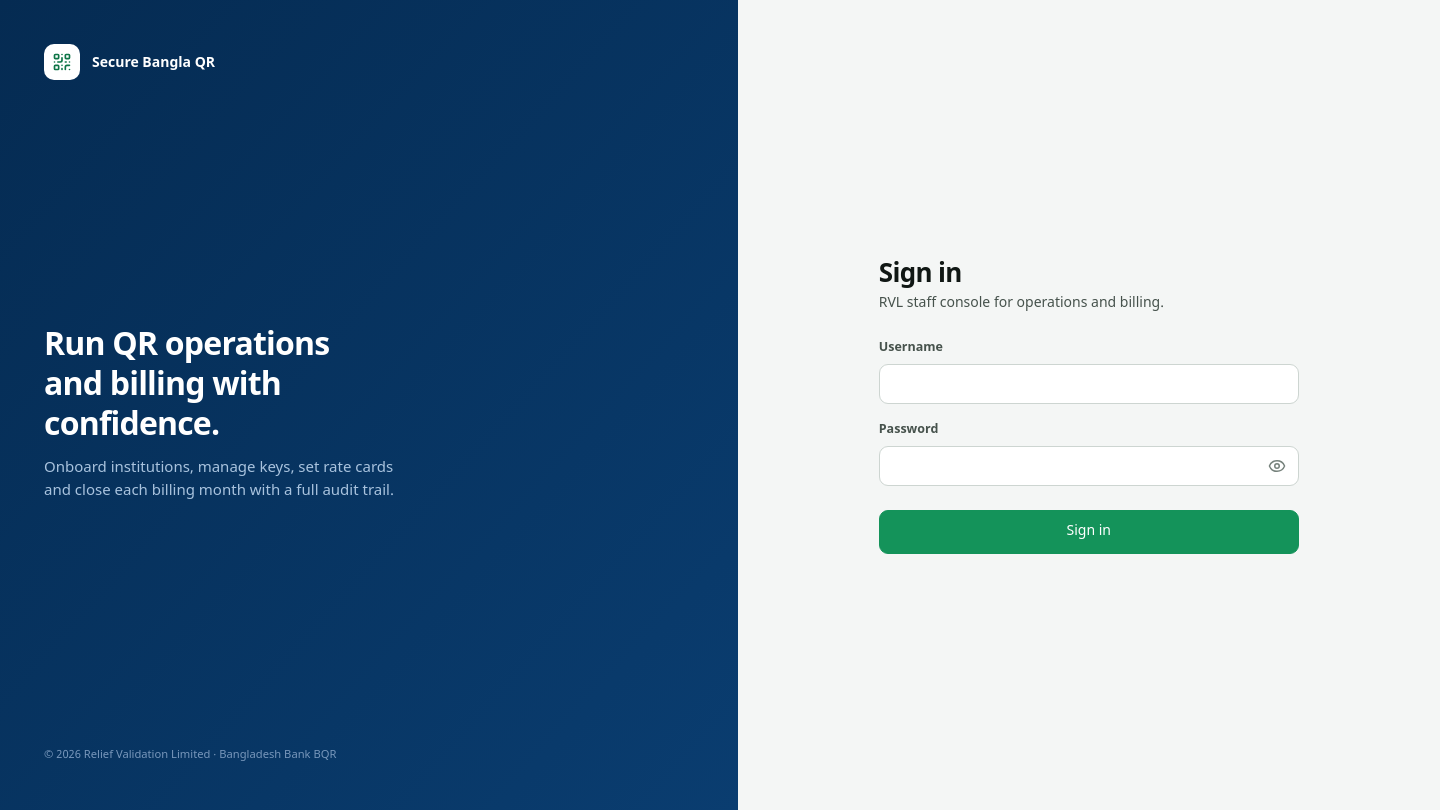
Scenario: App › shows the signed-in user’s name and username in the account menu
The image size is (1440, 810).
Type "master" into the field labelled "Username" at (1089, 384), box [879, 364, 1299, 404]
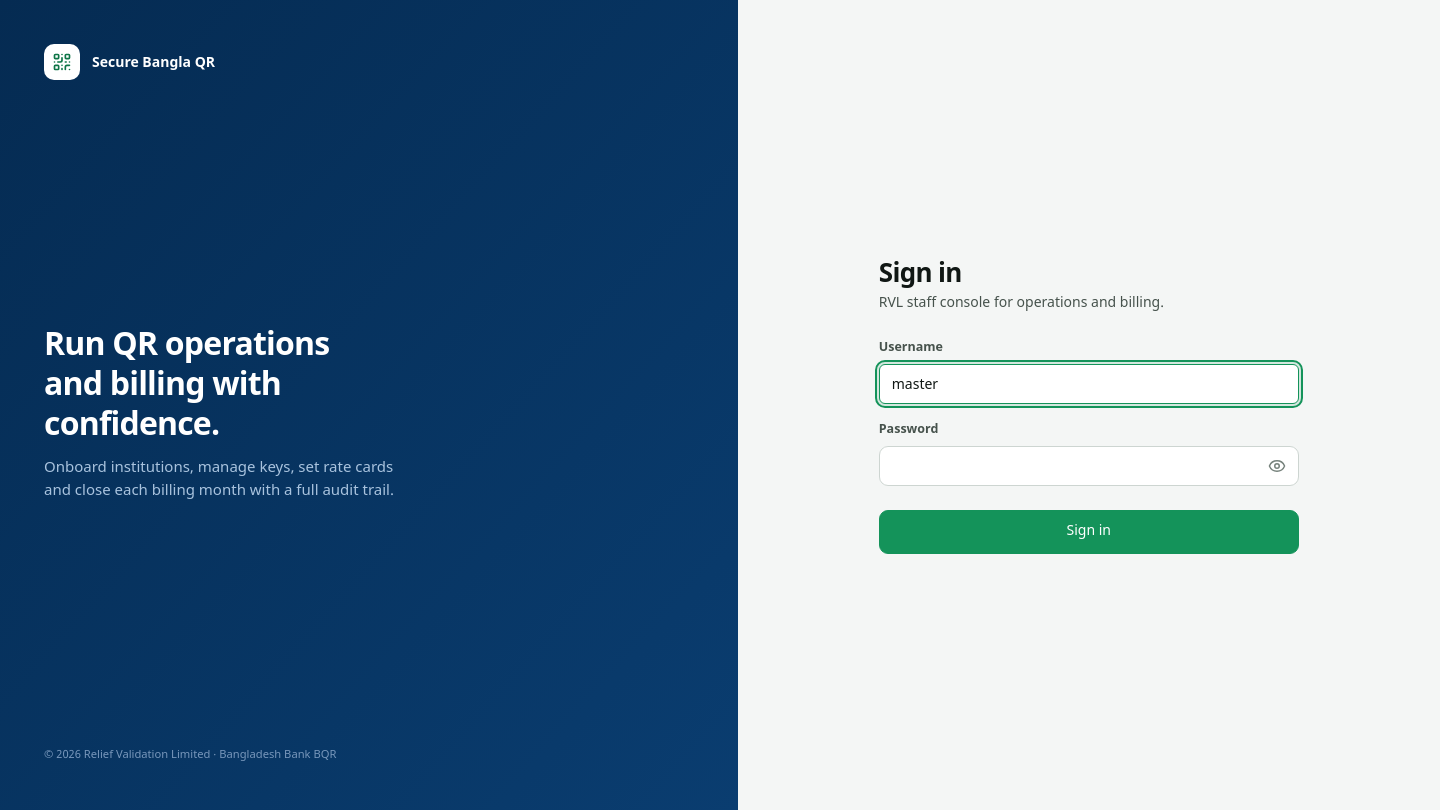
Type "master-pw" into the password field labelled "Password" at (1089, 466), box [879, 446, 1299, 486]
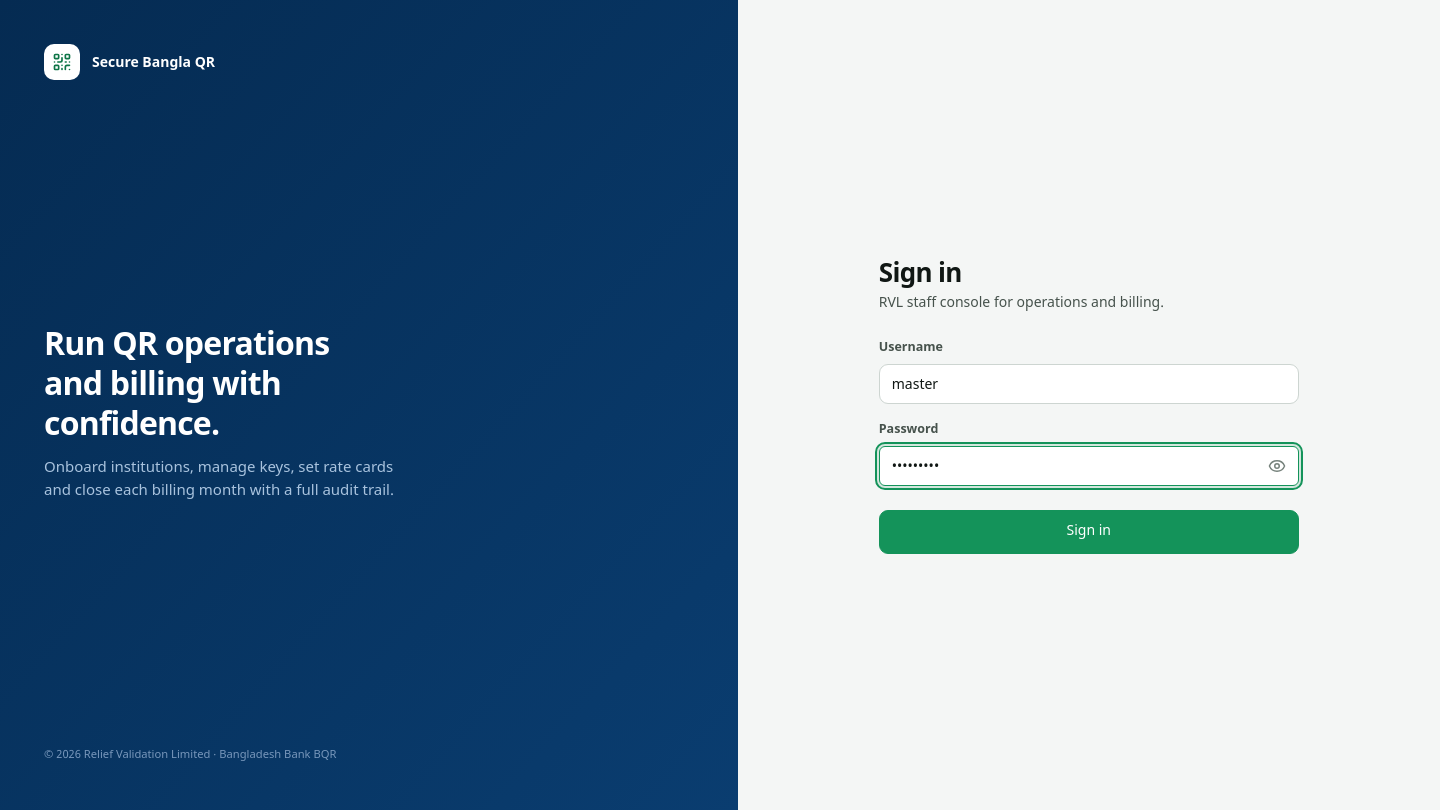
Click the button "Sign in" at (1089, 532), box [879, 510, 1299, 554]
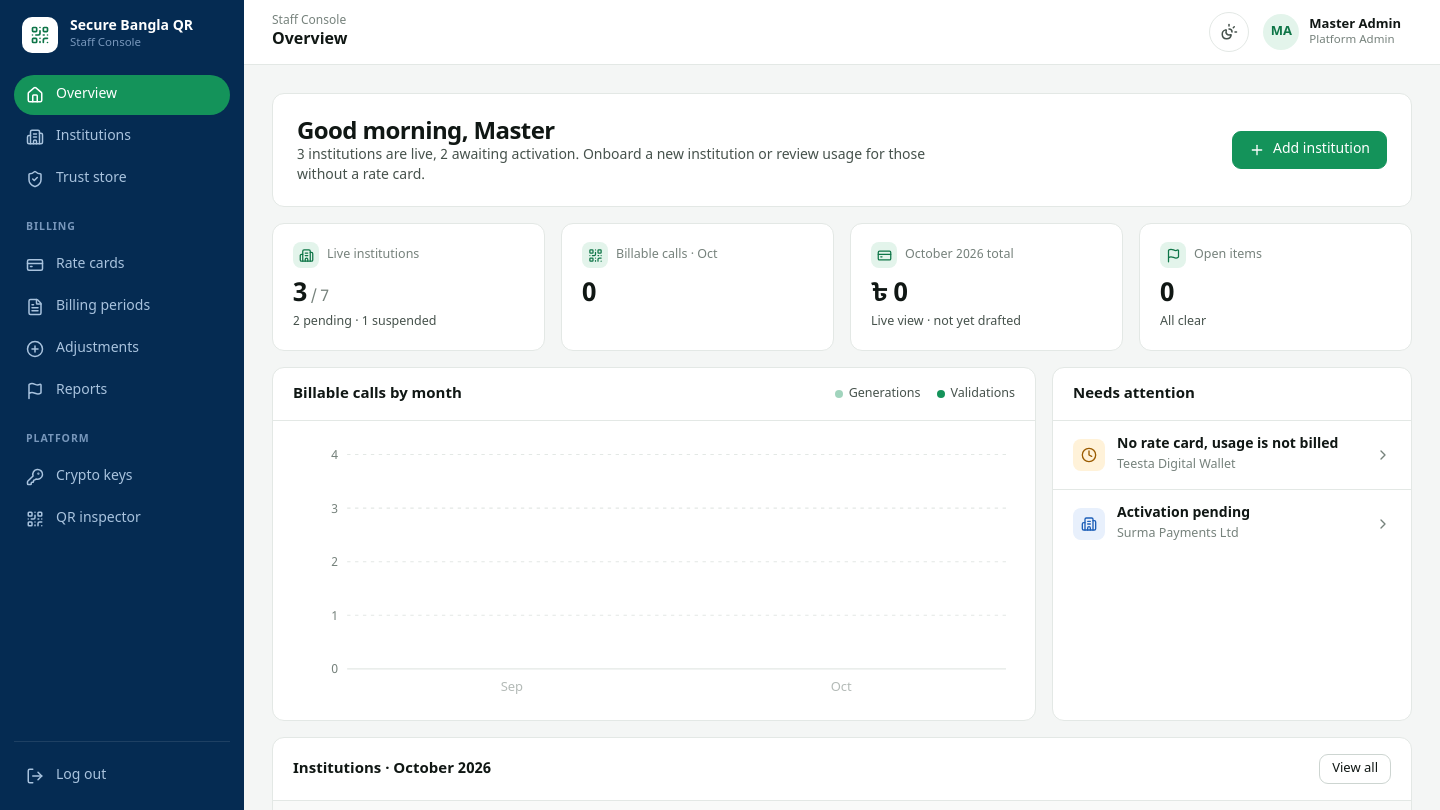
Expected: the link "Institutions" is shown, [26, 127, 131, 146]
Click the button with aria-label "Account menu" at (1336, 32), box [1259, 10, 1412, 54]
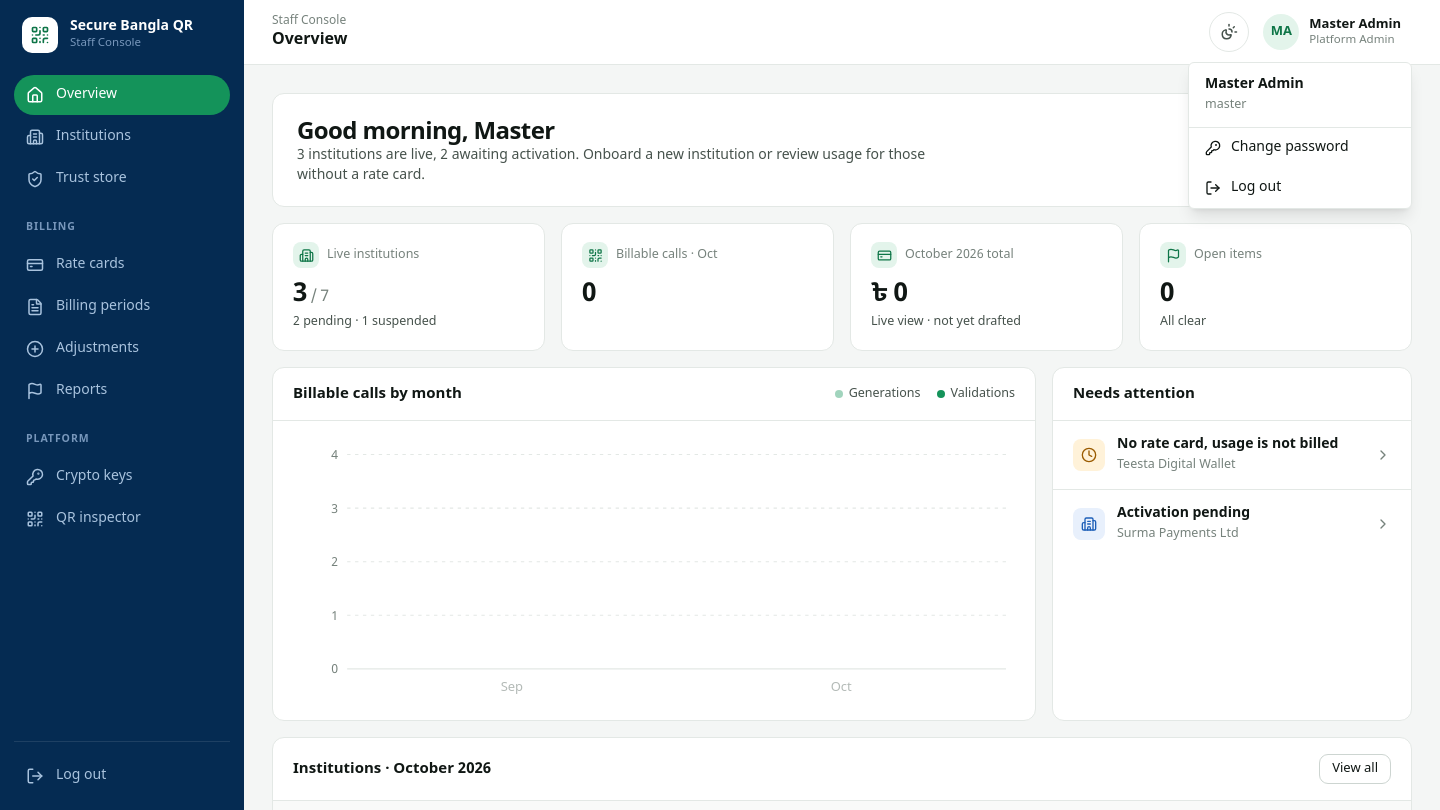
Expected: the text "master" is shown, [1205, 97, 1246, 113]
Expected: the menu item "Change password" is shown, [1205, 138, 1349, 157]
